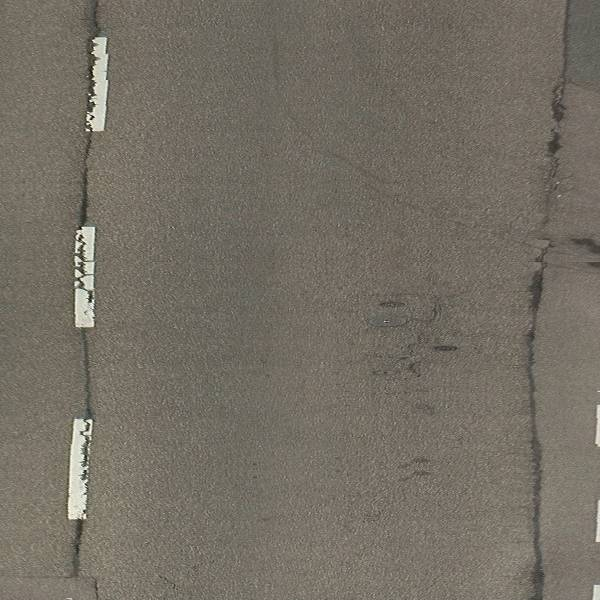road_damage: (521, 231, 558, 367), (75, 146, 99, 301), (537, 99, 570, 192), (370, 342, 432, 389), (364, 294, 418, 333)
